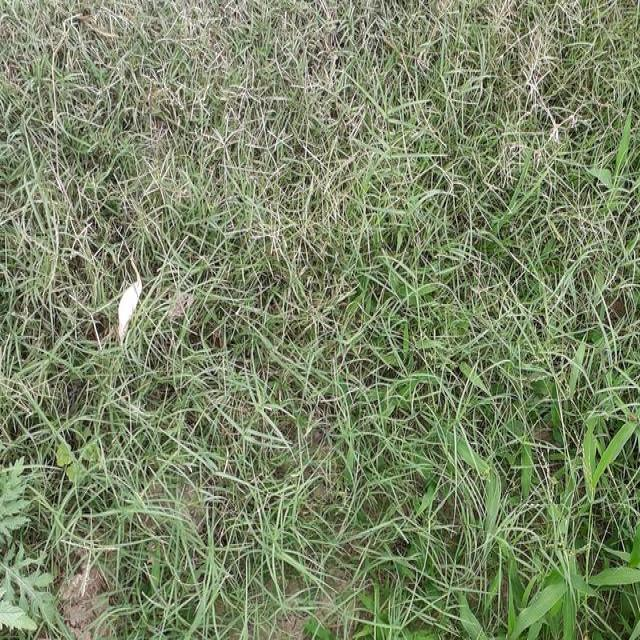weed: (319, 23, 640, 640), (0, 0, 288, 457), (460, 345, 636, 640), (91, 439, 326, 635), (1, 468, 69, 640)
